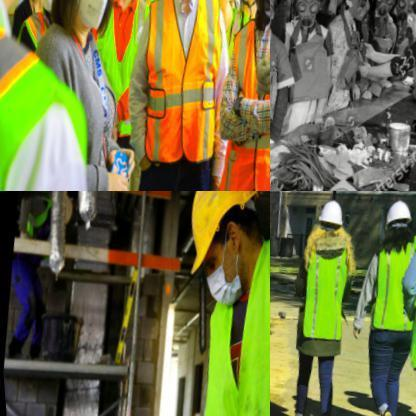vest: (120, 0, 238, 182), (165, 228, 269, 415), (0, 0, 92, 190), (203, 14, 269, 190), (81, 0, 152, 122), (290, 234, 356, 350), (357, 239, 415, 345), (391, 226, 415, 395), (12, 2, 57, 58), (135, 0, 180, 17)
